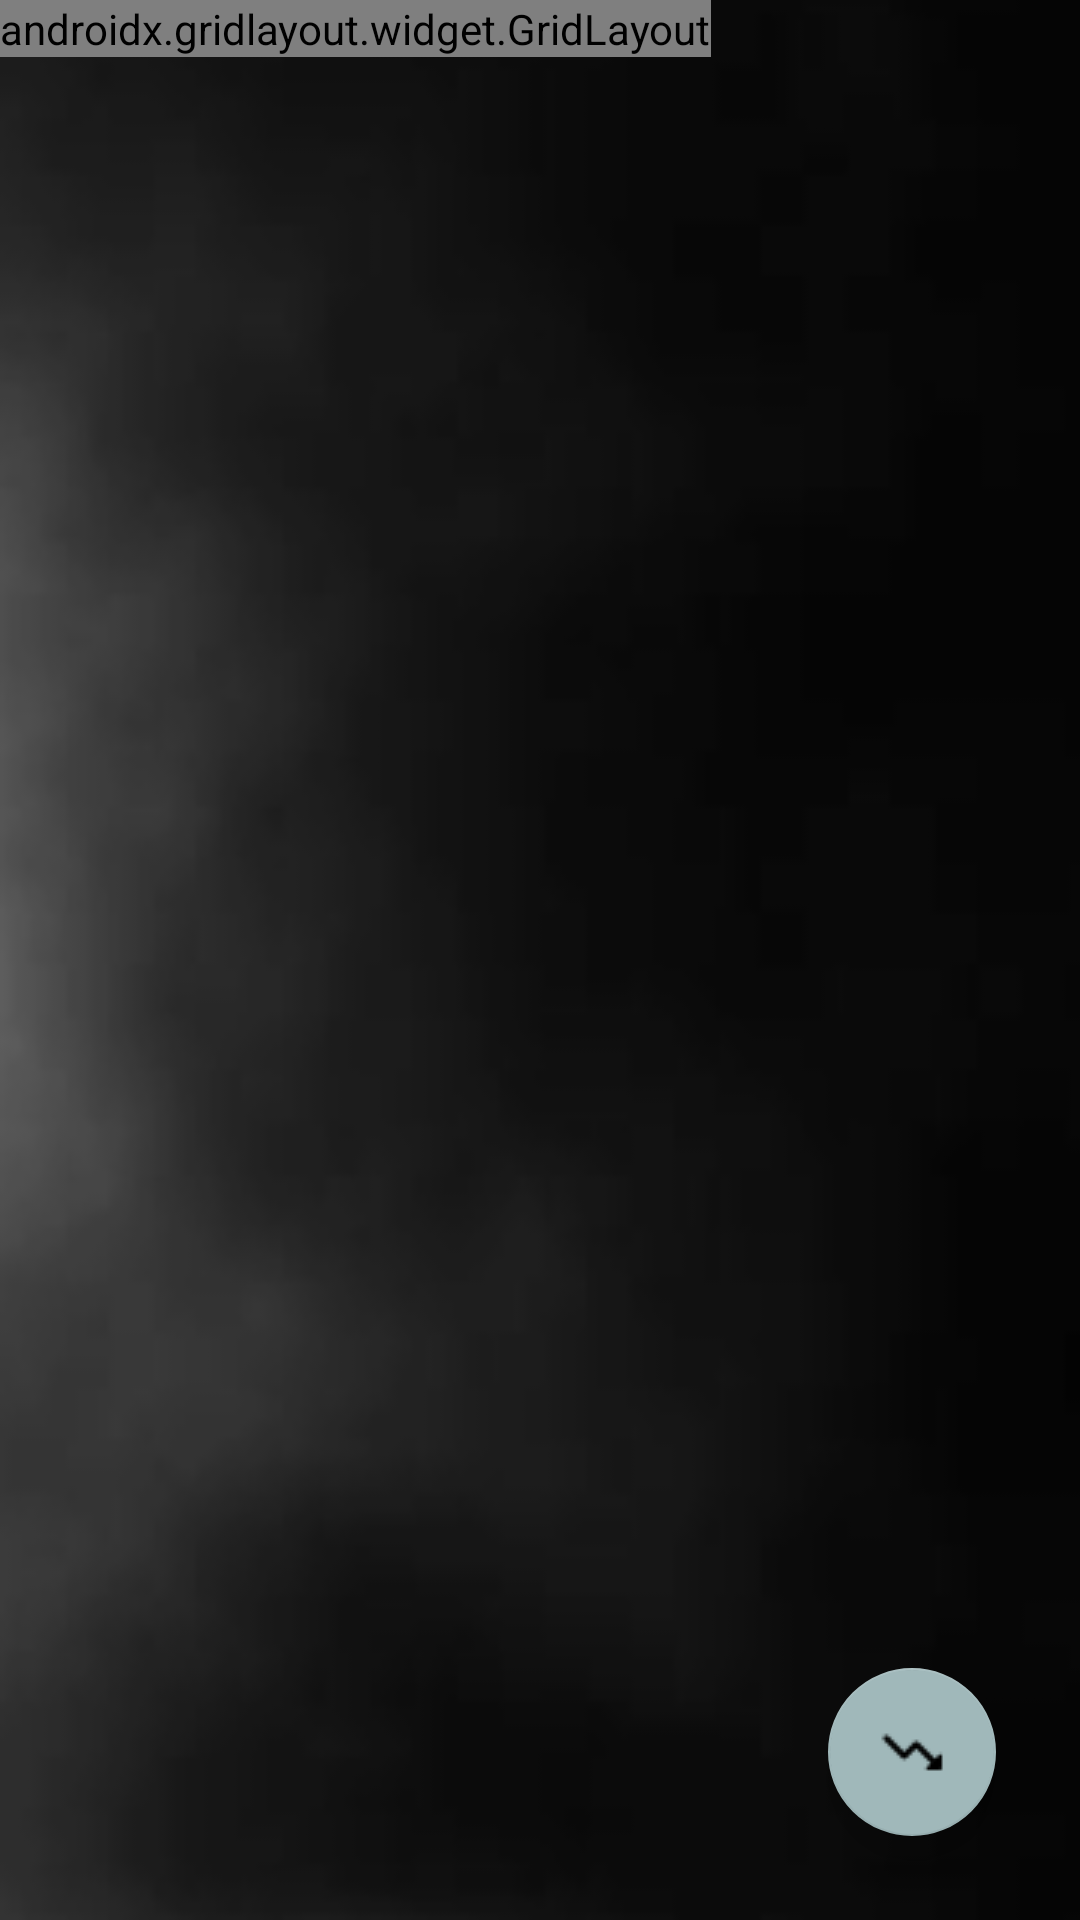

Icons on this 1080×1920 Android screen, each with the point to tap as (x,y):
flechabajo: (912,1752)
